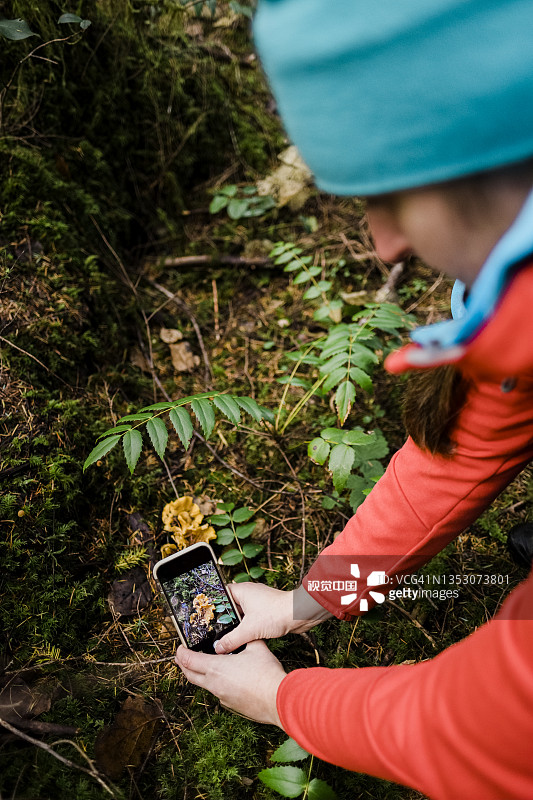taking photos: (144, 530, 334, 735)
